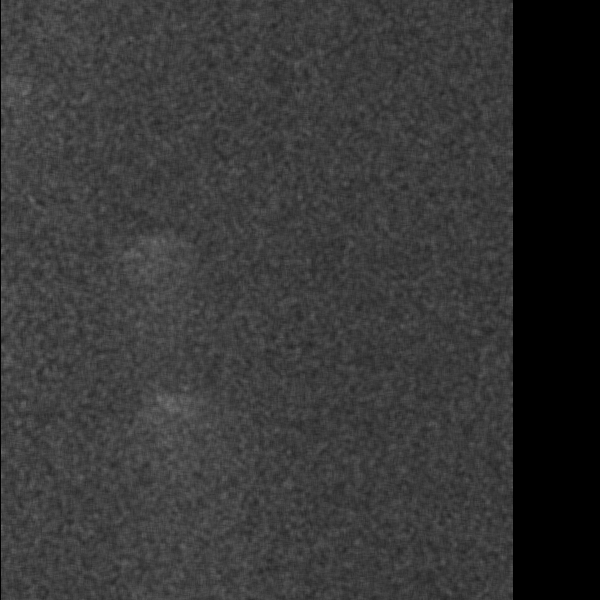spark: (436, 274, 460, 323), (246, 39, 292, 56), (332, 127, 350, 157), (340, 425, 351, 453)
